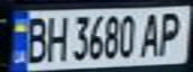0: (118, 11, 139, 60)
3: (69, 12, 90, 61)
6: (87, 11, 106, 61)
8: (103, 11, 124, 60)
A: (136, 10, 166, 57)
B: (18, 13, 51, 64)
H: (42, 12, 69, 63)
P: (154, 8, 190, 56)
